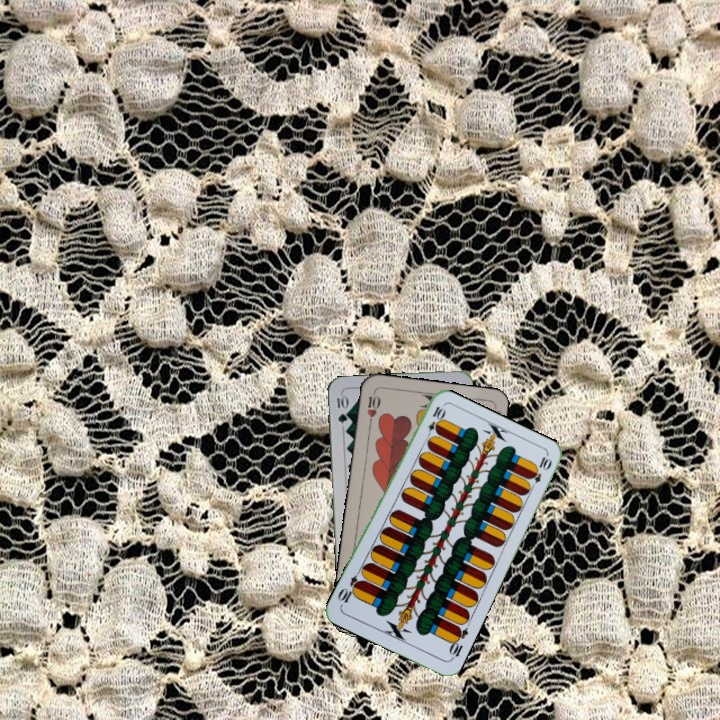E10: (445, 622, 471, 662), (422, 402, 447, 442)
G10: (333, 391, 349, 426)
H10: (363, 388, 382, 429)
